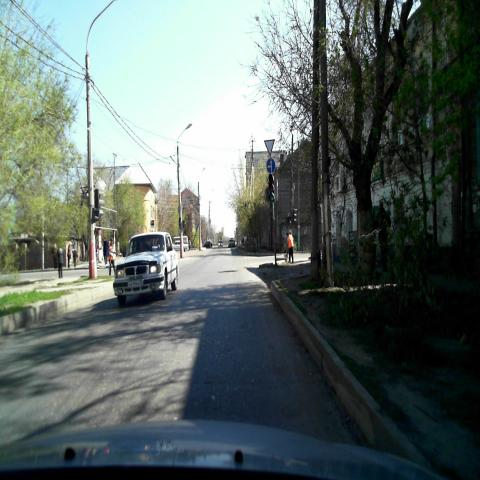4_1_5: (266, 157, 276, 175)
